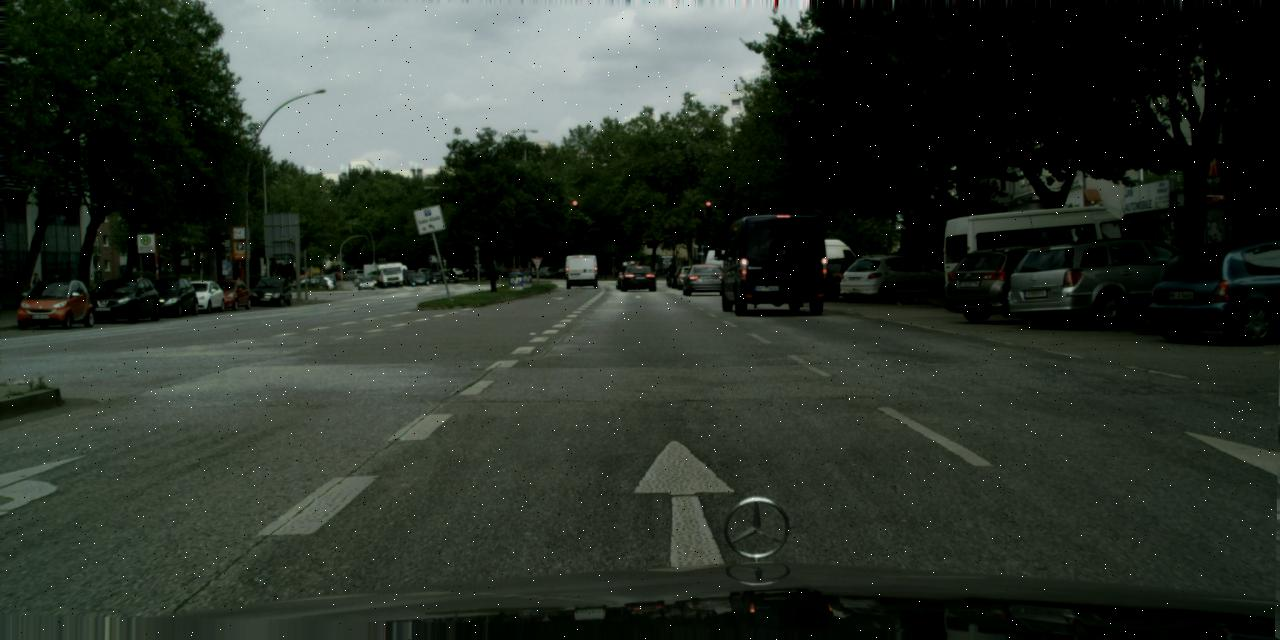ped: (30, 273, 42, 304), (667, 263, 675, 284), (54, 272, 68, 278)
